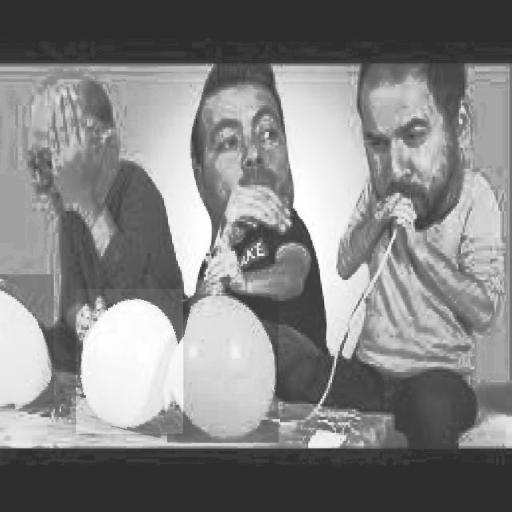balloon: (168, 294, 278, 442), (76, 288, 183, 434), (0, 274, 54, 408)
